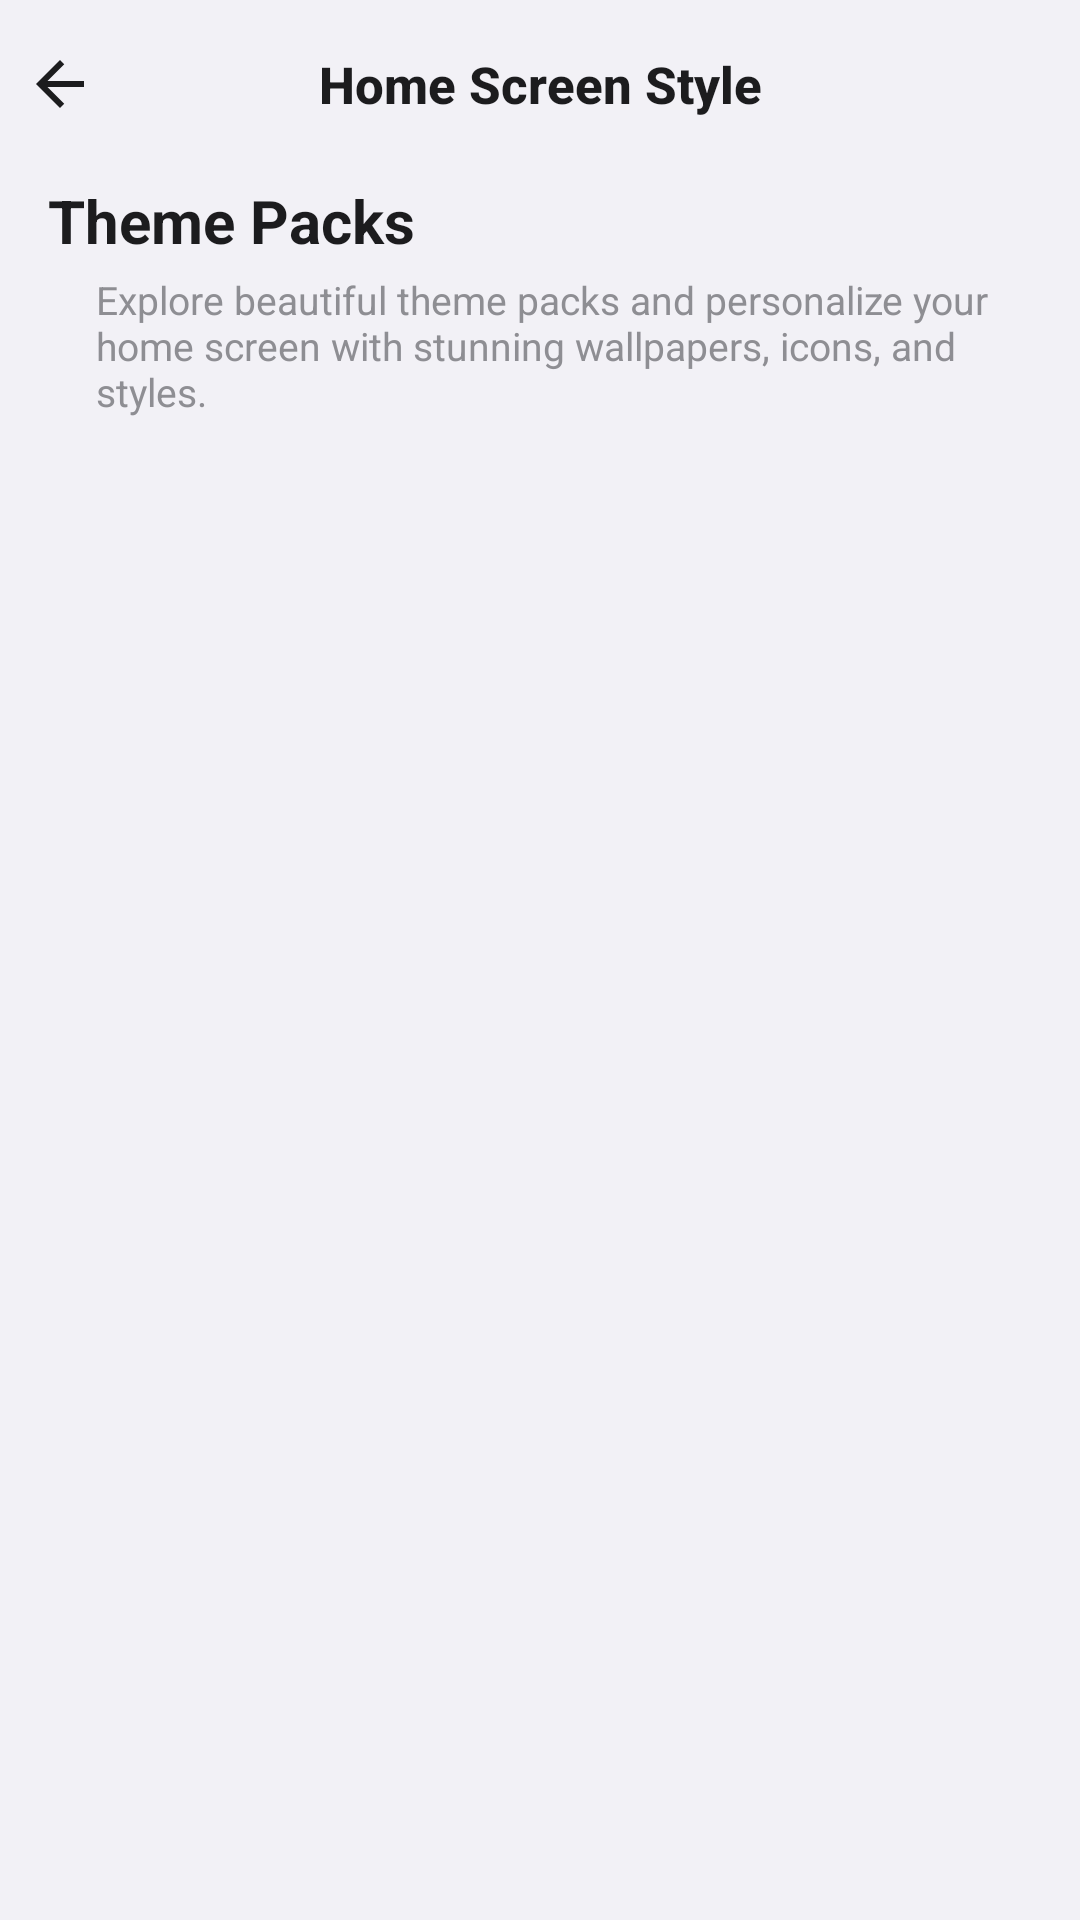

Icons on this 1080px×1920px Android screen, each with its box as (x1, y1, x2, y2):
back arrow: (36, 60, 84, 108)
